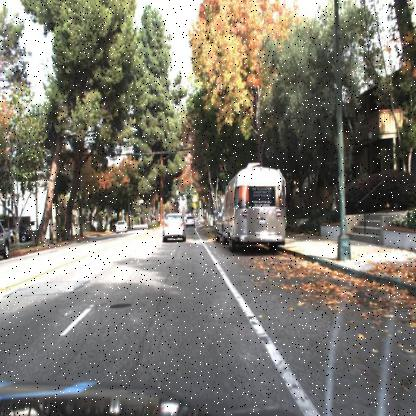car: (155, 205, 192, 251), (0, 222, 12, 263), (7, 222, 30, 243), (183, 209, 198, 230), (113, 218, 129, 237)
truck: (210, 157, 296, 257)
